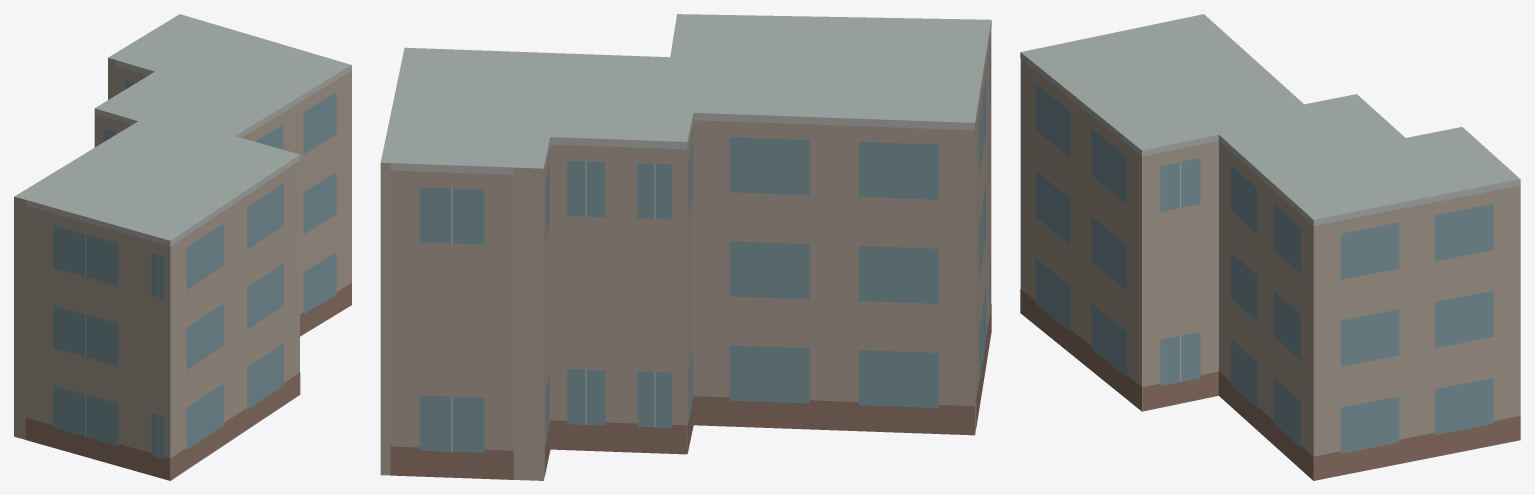
Rendered from survey-upis-32471830.glb.
3 views of the same model, side by side, from view 1: azimuth 30°, elevation 25°; view 2: azimuth 150°, elevation 25°; view 3: azimuth 270°, elevation 25° (orthographic). The views are drawn at different scales.
Visible parts, largest first — view 1: survey-upis-32471830.tmp; view 2: survey-upis-32471830.tmp; view 3: survey-upis-32471830.tmp.
Part boxes in pixels (bbox=[...]): survey-upis-32471830.tmp: bbox=[14, 14, 351, 480]; survey-upis-32471830.tmp: bbox=[380, 14, 991, 480]; survey-upis-32471830.tmp: bbox=[1020, 14, 1520, 480].
Bounding box in the file's own units: 17.43 × 10.3 × 17.89.
